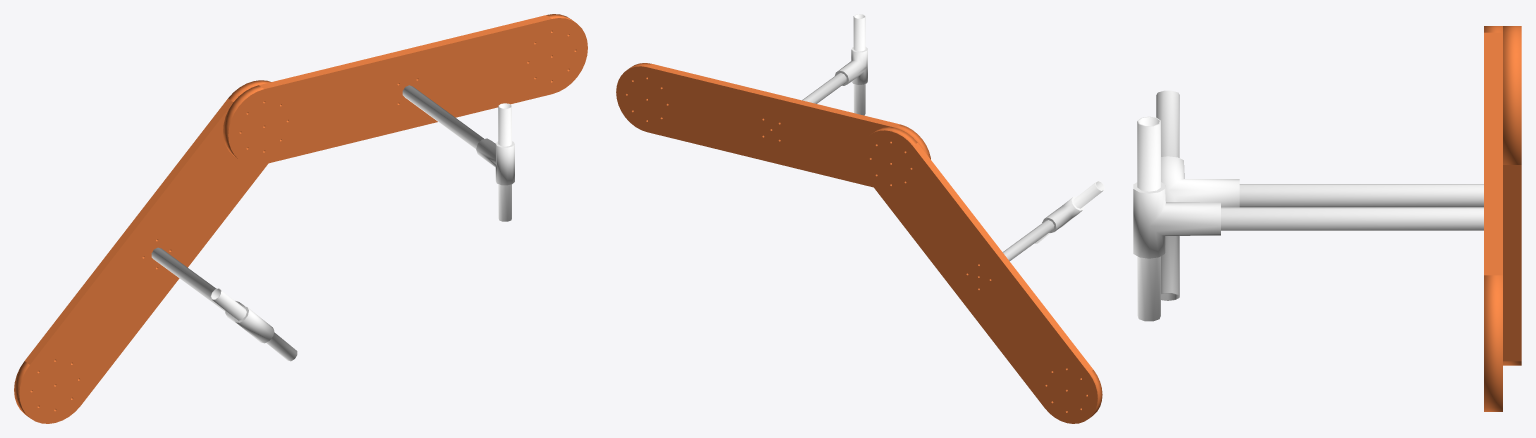
The model's file is pathmarker2.dae.
3 renders of one model, left to right at view 1: azimuth 30°, elevation 25°; view 2: azimuth 150°, elevation 25°; view 3: azimuth 270°, elevation 25°, orthographic. The views are drawn at different scales.
Parts seen in each view (by area): view 1: path_marker.001; view 2: path_marker.001; view 3: path_marker.001.
Part boxes in pixels (<box>): path_marker.001: <box>14,14,587,423</box>; path_marker.001: <box>616,14,1104,423</box>; path_marker.001: <box>1133,26,1521,411</box>.
Bounding box in the file's own units: 1.19 × 0.4125 × 0.6216.
